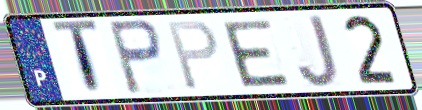2: (342, 13, 398, 85)
E: (219, 17, 294, 89)
J: (295, 13, 341, 90)
P: (104, 17, 165, 97), (165, 18, 221, 93)
T: (49, 17, 106, 99)
